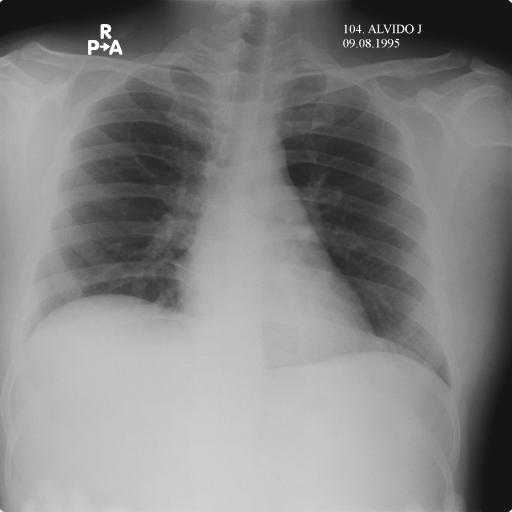normal: (8, 33, 470, 408)
